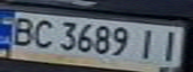3: (54, 19, 78, 52)
6: (75, 20, 96, 54)
8: (90, 22, 115, 56)
9: (109, 25, 136, 58)
B: (3, 15, 39, 47)
C: (27, 17, 57, 50)
I: (133, 26, 163, 61), (154, 28, 184, 62)
